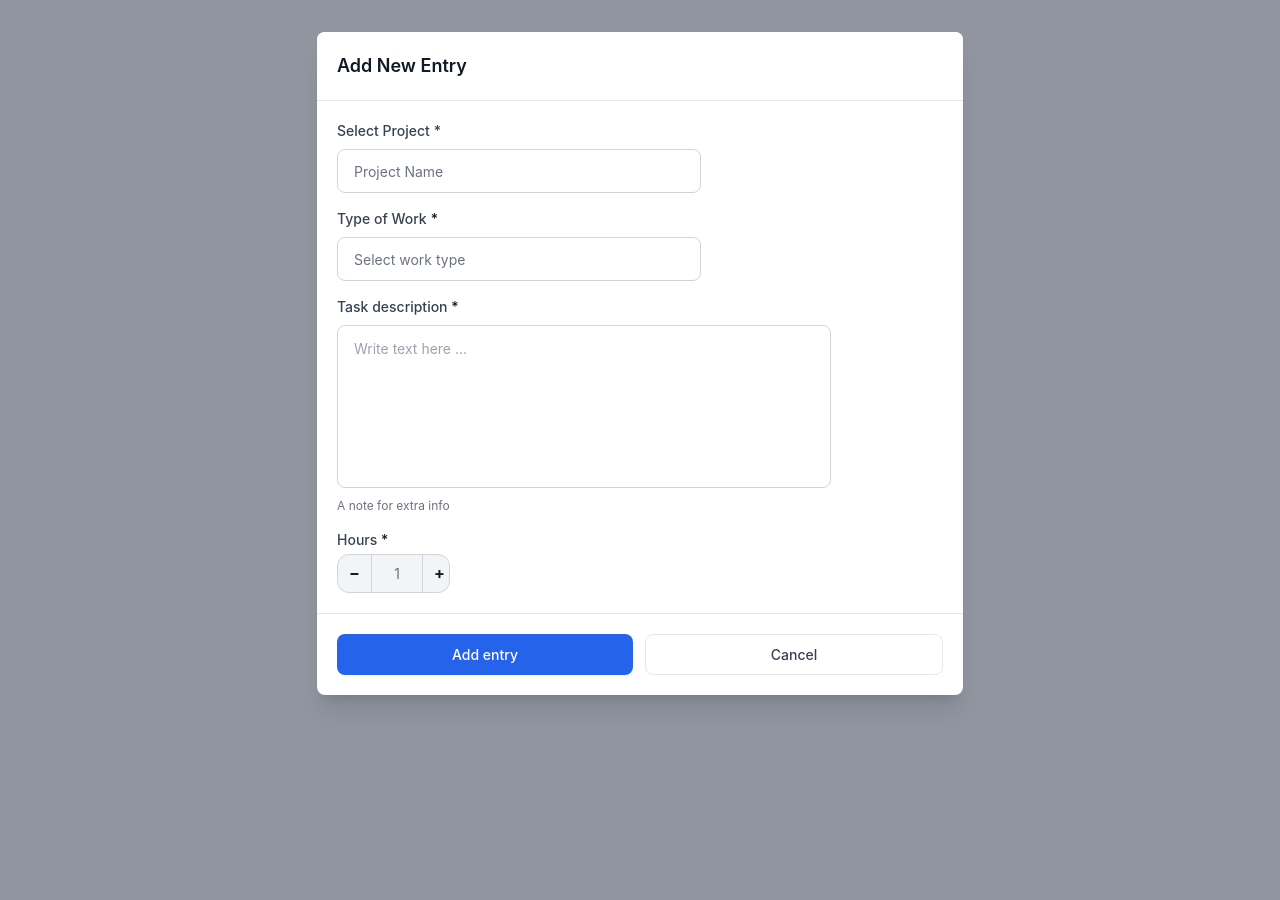
TimesheetEntryModal › decrements hours when - button is clicked
The width and height of the screenshot is (1280, 900).
Note: Set initial value to 2
Replace the text in the number field labelled "Hours *" with "2" at coordinates (397, 574), box [372, 555, 422, 592]
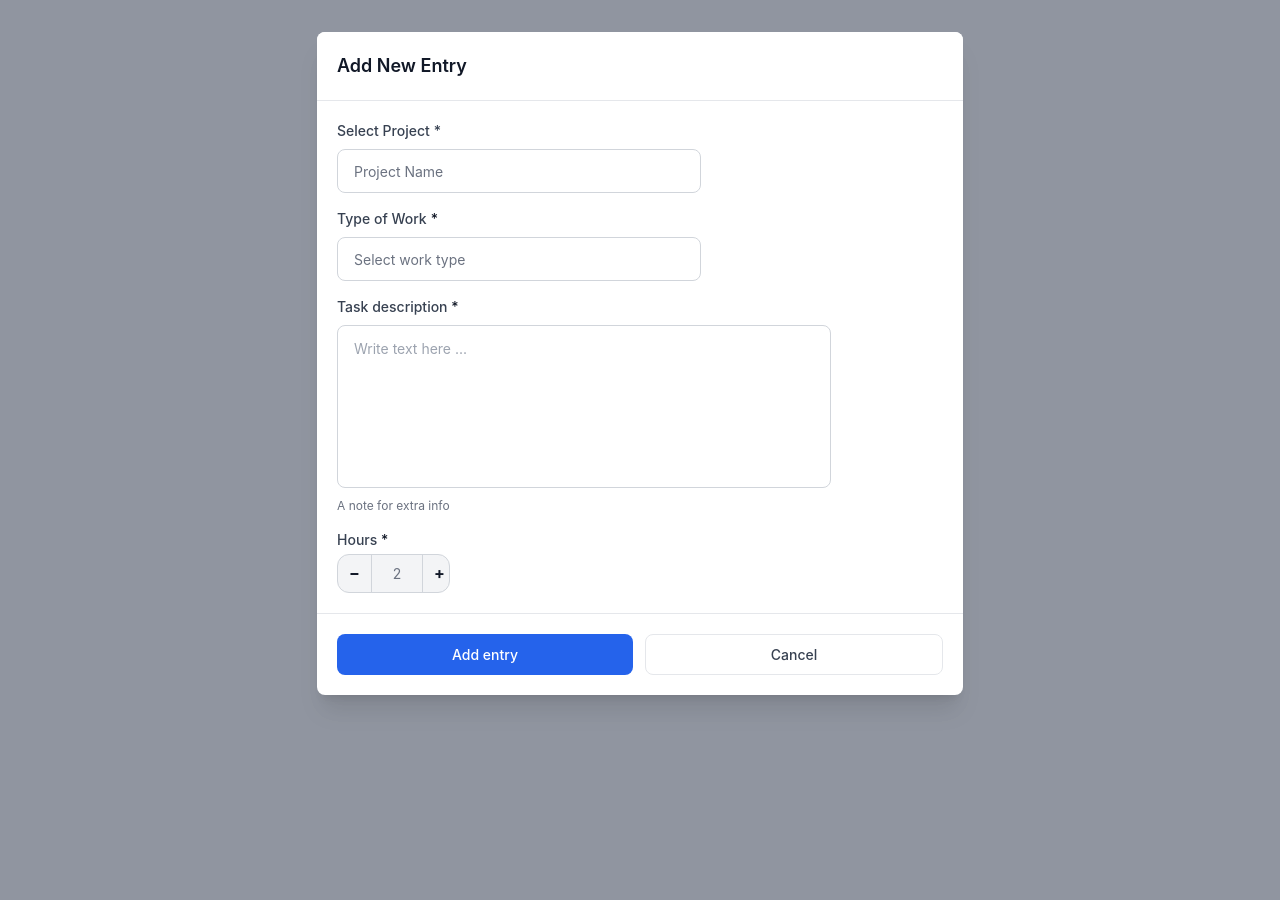
Click the button "−".
click(355, 574)  # box [338, 555, 372, 592]
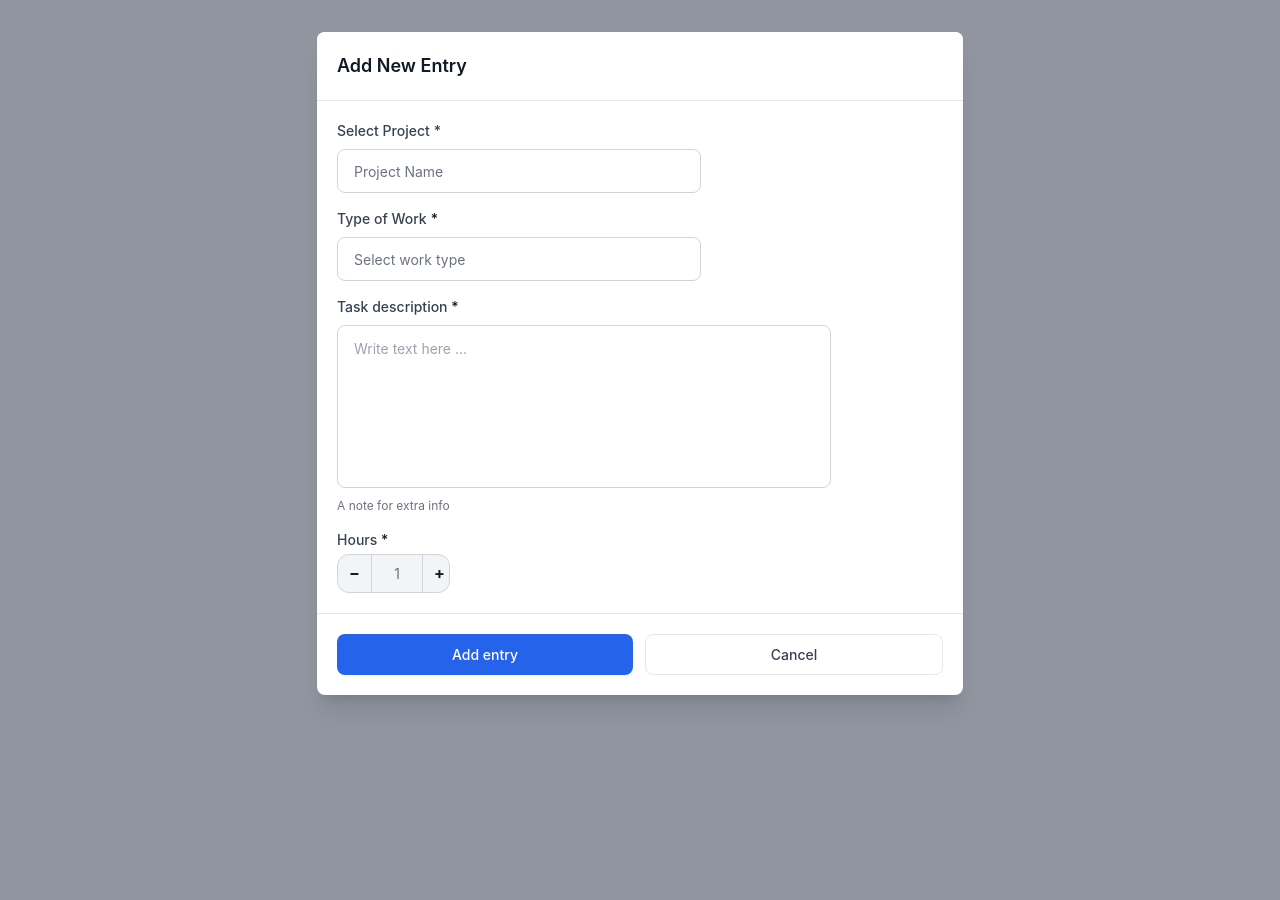
Check: the number field labelled "Hours *" holds "1", box [372, 555, 422, 592]
